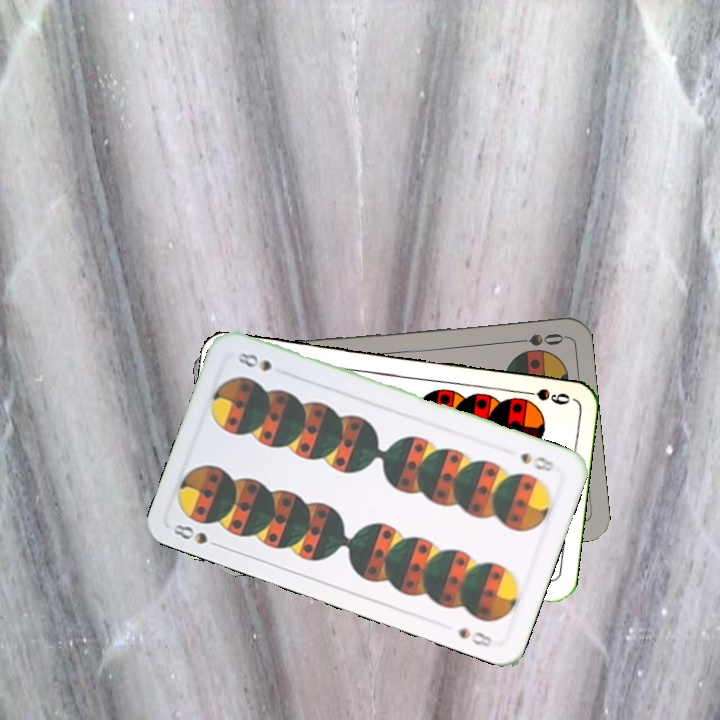S8: (169, 520, 226, 551), (516, 448, 559, 474)
S9: (513, 384, 572, 408)
SO: (507, 329, 566, 349)
